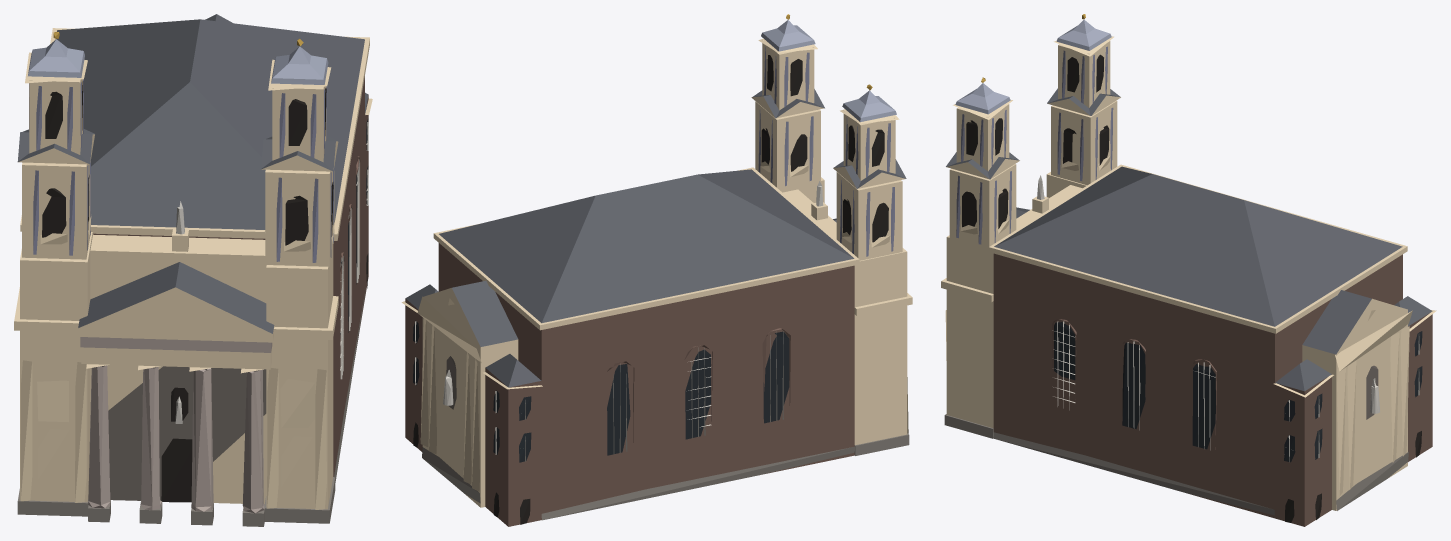
File: mozes-en-aaronkerk.lod1.glb
3 views of the same model, side by side, from view 1: azimuth 30°, elevation 25°; view 2: azimuth 150°, elevation 25°; view 3: azimuth 270°, elevation 25° (orthographic). The views are drawn at different scales.
Visible parts, largest first — view 1: mozes-en-aaronkerk; view 2: mozes-en-aaronkerk; view 3: mozes-en-aaronkerk.
Part boxes in pixels (box(x1,y1,x2,y2)): mozes-en-aaronkerk: box(14, 14, 372, 526); mozes-en-aaronkerk: box(401, 14, 912, 526); mozes-en-aaronkerk: box(941, 14, 1436, 526).
Size of the model in its own units: 44.21 by 38.3 by 49.7.
